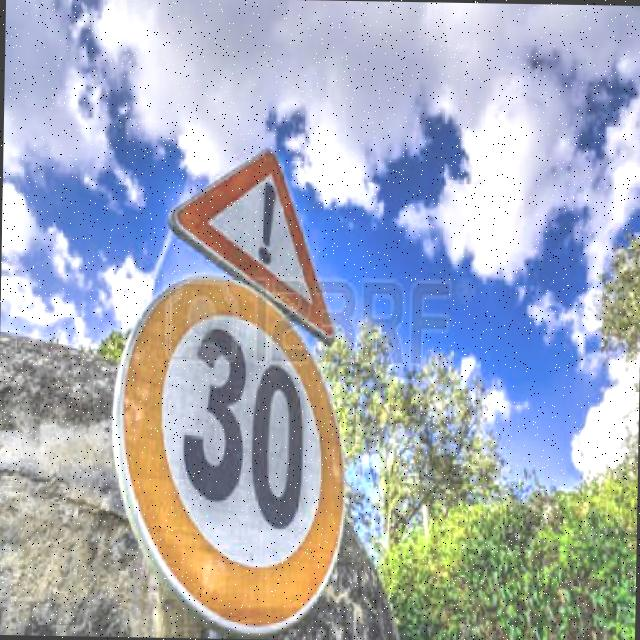Ograniczenie predkosci do 30: (110, 278, 350, 630)
